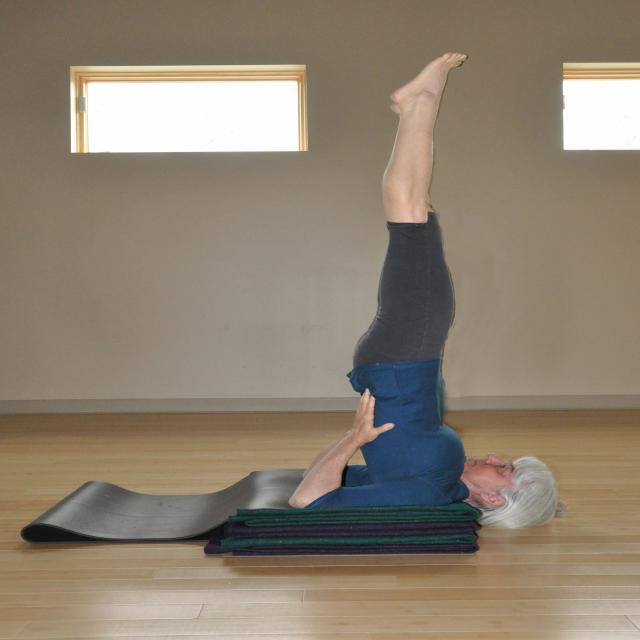yoga-pose shoulderstand: (281, 51, 557, 516)
